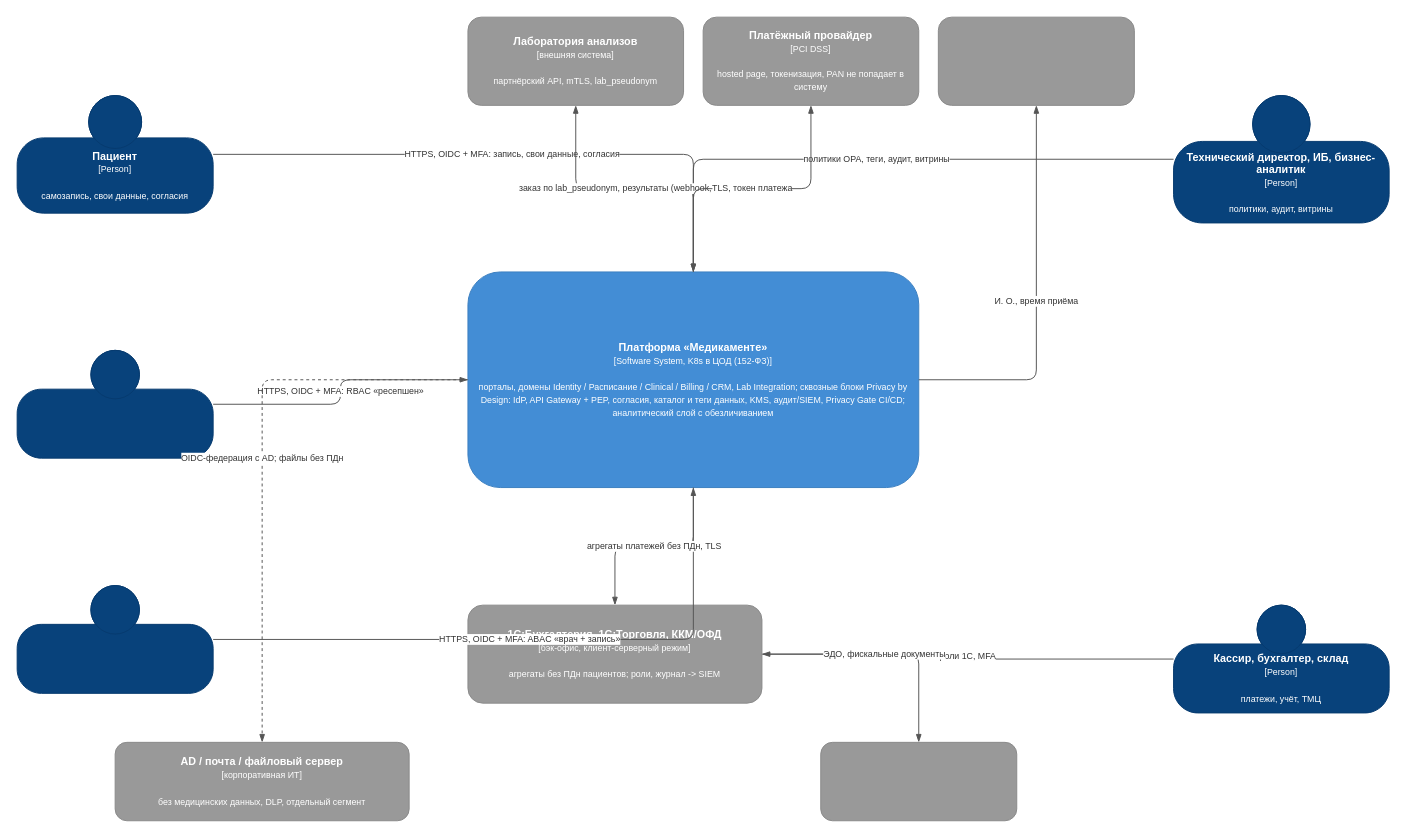
Image size: 1406x838. Some labels were removed from this diagram. Here are the shapes that lost their labels. From the top down, the centre of each, then its label:
pixel 1035 60: SMS / push / телефония [внешние сервисы] уведомления без медицинских данных
pixel 114 403: Ресепшен [Person] расписание, контакты, договоры
pixel 114 639: Специалист-медик [Person] медкарта своих пациентов
pixel 918 781: ФНС, СФР, ОФД [внешние системы] ЭДО, КЭП
